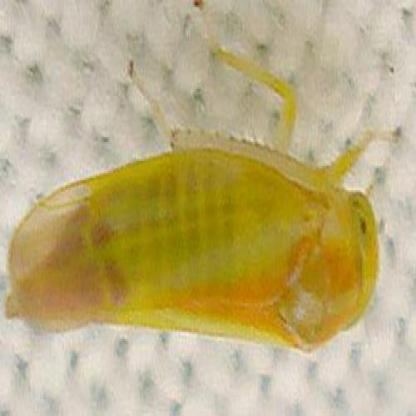green-leafhopper: (8, 124, 378, 350)
